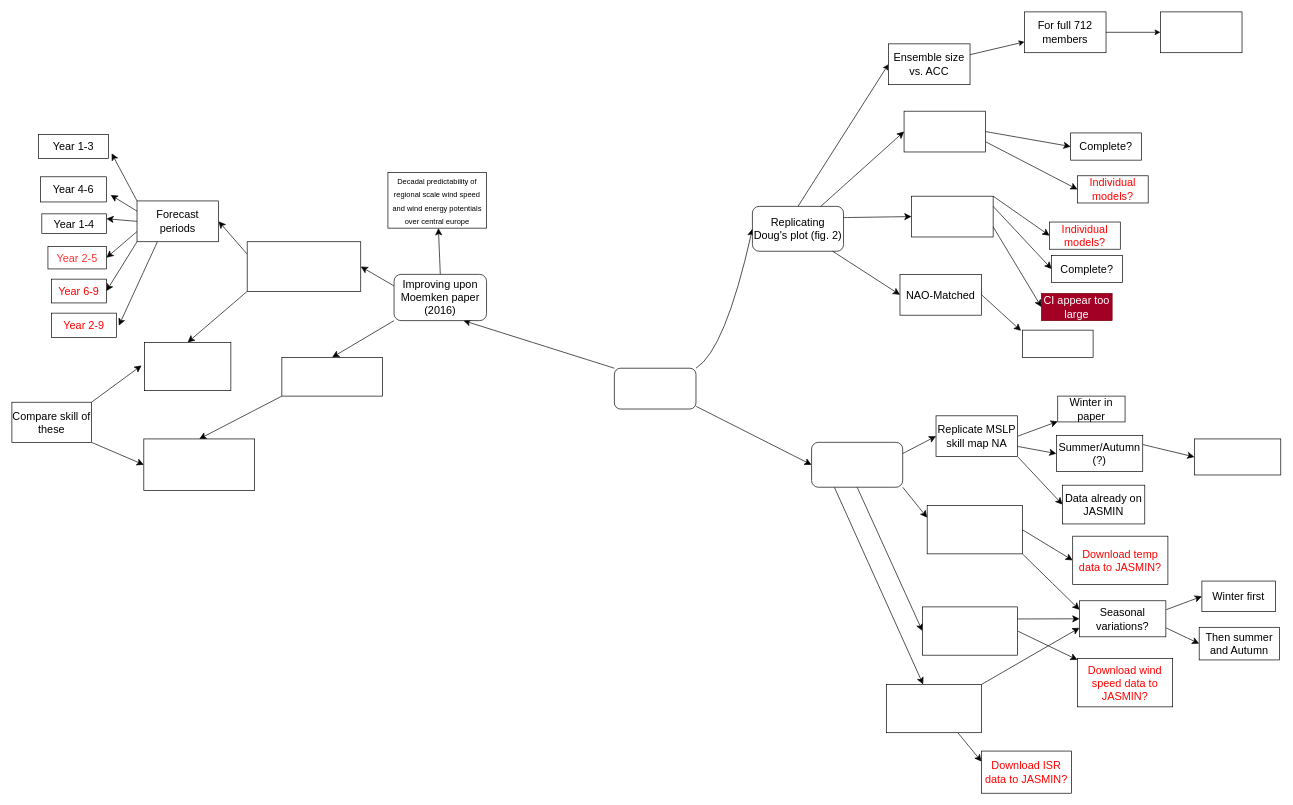
Image size: 1293x805. Some labels were removed from this diagram. Here are the shapes that lost their labels. From the top down, the centre of each, then its label:
At point (1201, 32): "Long and short period".
At point (944, 131): "Raw ensemble".
At point (952, 216): "Lagged + var. adjust".
At point (304, 266): "Decadal forecast/hindcast of large-scale mean wind".
At point (1057, 343): "Not quite sure about CI's".
At point (187, 366): "Improve raw output with large ensemble".
At point (331, 376): "Complicated SDD regionalization".
At point (655, 388): "Decadal forecasting research".
At point (199, 464): "Correlation w/decadal forecast of NAO as predictor?".
At point (857, 464): "Replicating Doug's plot (fig. 1) (MSLP skill maps)".
At point (1237, 456): "Skill for East Atlantic pattern?".
At point (974, 529): "Temperature skill map North Atlantic".
At point (970, 630): "Wind speed skill map north atlantic".
At point (934, 708): "Incoming solar radiation skill map north atlantic".
